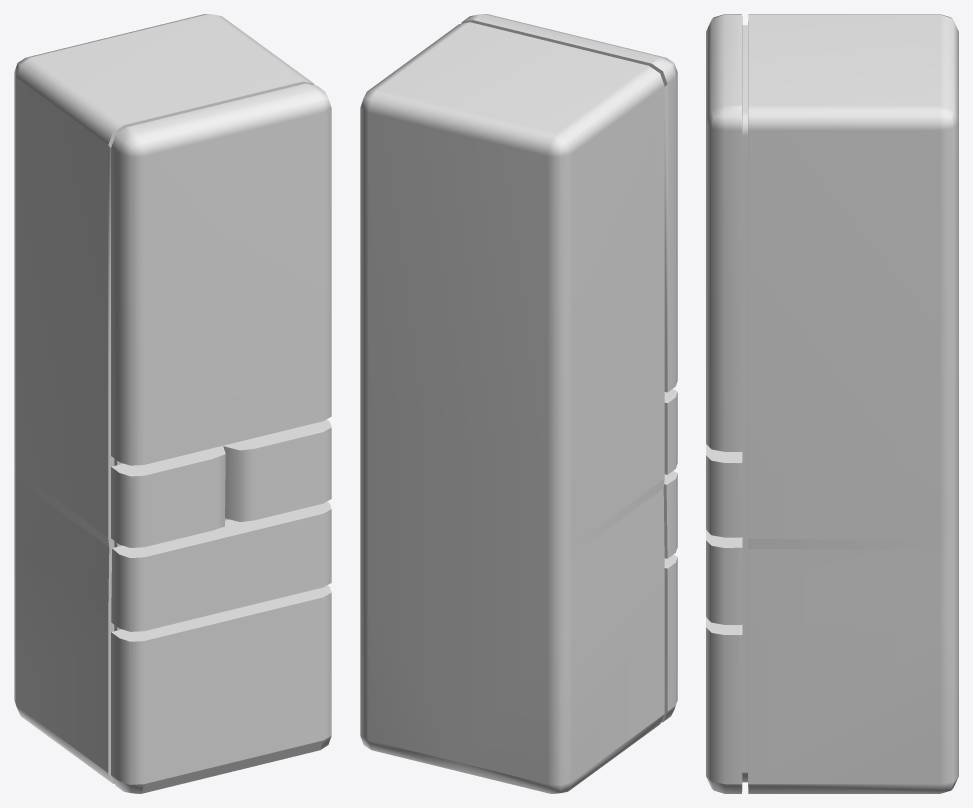
Rendered from Y3BoxRefrigerator.fbx.
3 renders of one model, left to right at view 1: azimuth 30°, elevation 25°; view 2: azimuth 150°, elevation 25°; view 3: azimuth 270°, elevation 25°, orthographic. The views are drawn at different scales.
Visible parts, largest first — view 1: reizouko3; view 2: reizouko3; view 3: reizouko3.
Part boxes in pixels (bbox=[...]): reizouko3: bbox=[14, 14, 331, 793]; reizouko3: bbox=[360, 14, 677, 793]; reizouko3: bbox=[706, 14, 958, 793].
Size of the model in its own units: 1 by 3 by 1.
1 material, 1 textured.
